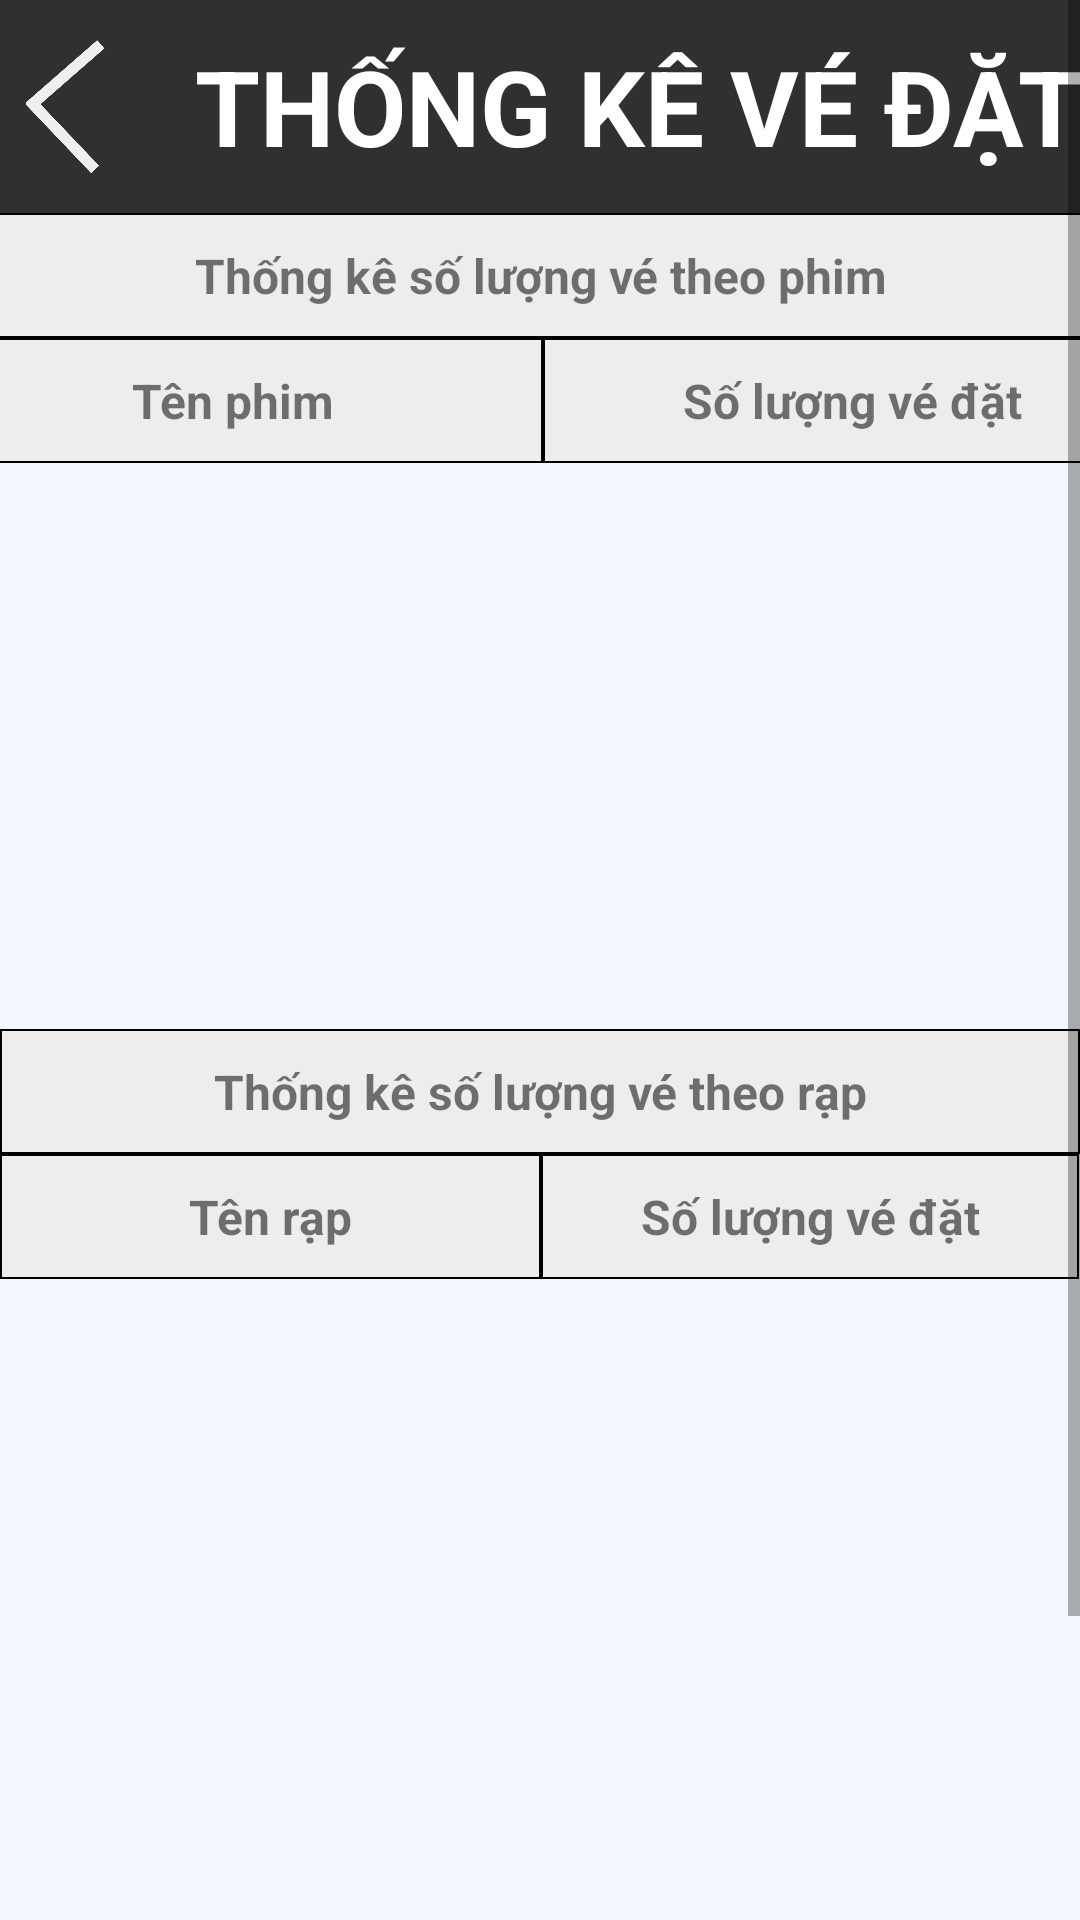

Screen size 1080px×1920px. Icon name, then its box in pixels as bbox(x1, y1, x2, y2):
turnback: bbox(26, 40, 104, 173)
